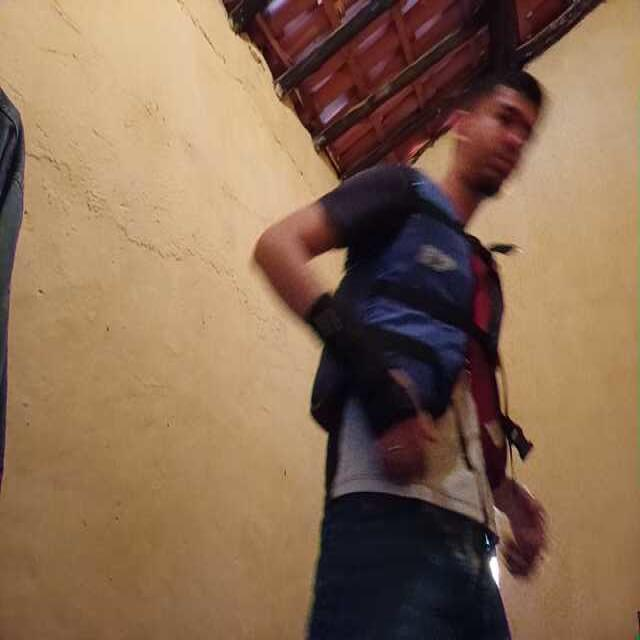colete: (330, 164, 516, 467)
pessoa: (281, 69, 544, 640)
